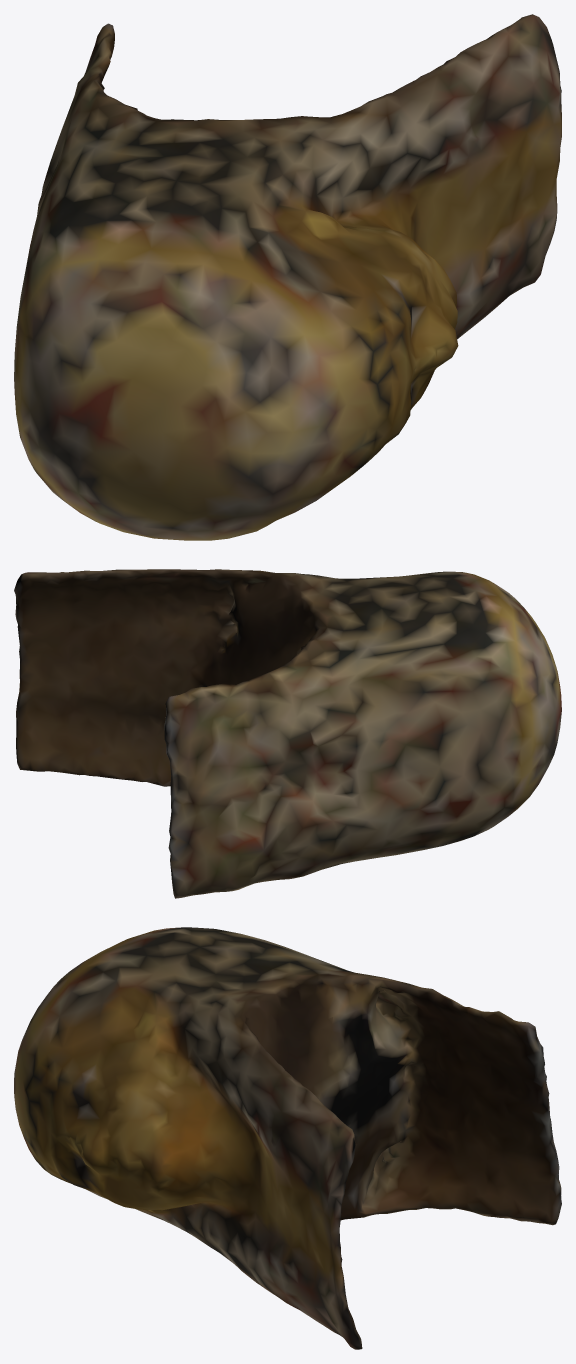
Rendered from Mummy_mask_simplified.obj.
3 views of the same model, one above another, from view 1: azimuth 30°, elevation 25°; view 2: azimuth 150°, elevation 25°; view 3: azimuth 270°, elevation 25° (orthographic). The views are drawn at different scales.
Size of the model in its own units: 9.09 by 4.53 by 8.56.
